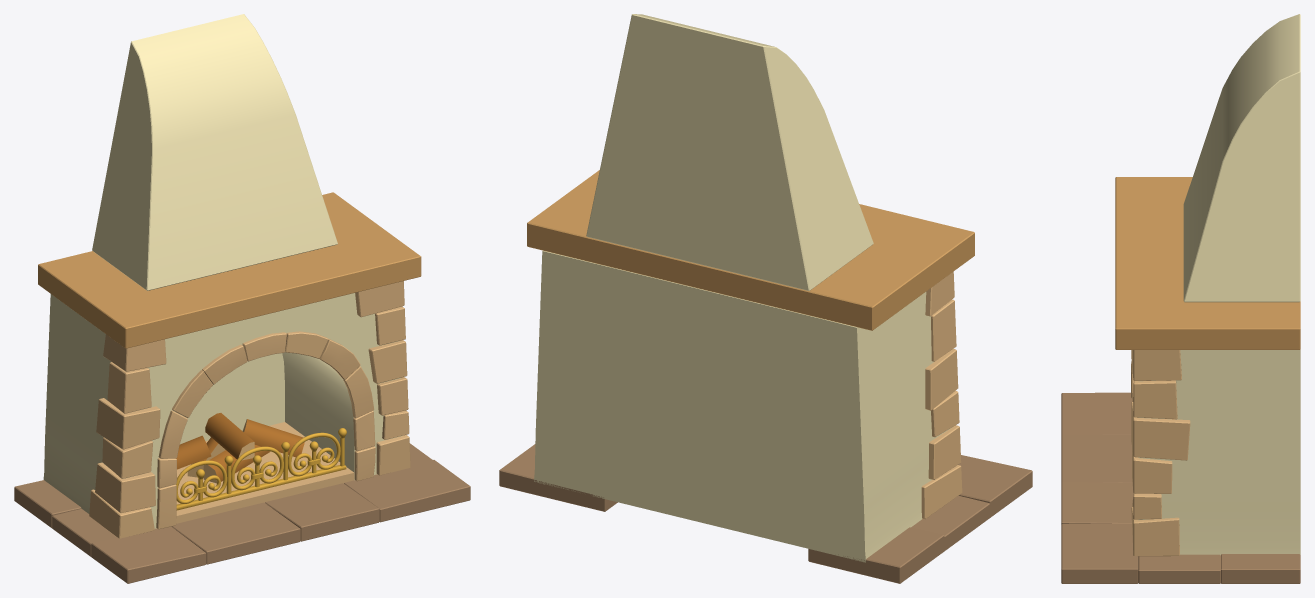
Rendered from Fireplase1.fbx.
3 renders of one model, left to right at view 1: azimuth 30°, elevation 25°; view 2: azimuth 150°, elevation 25°; view 3: azimuth 270°, elevation 25°, orthographic. The views are drawn at different scales.
Visible parts, largest first — view 1: Fireplase1; view 2: Fireplase1; view 3: Fireplase1.
Part boxes in pixels (left/top/right/bottom): Fireplase1: left=14, top=14, right=470, bottom=583; Fireplase1: left=499, top=14, right=1032, bottom=583; Fireplase1: left=1061, top=14, right=1300, bottom=583.
Size of the model in its own units: 1.79 by 2.15 by 1.03.
